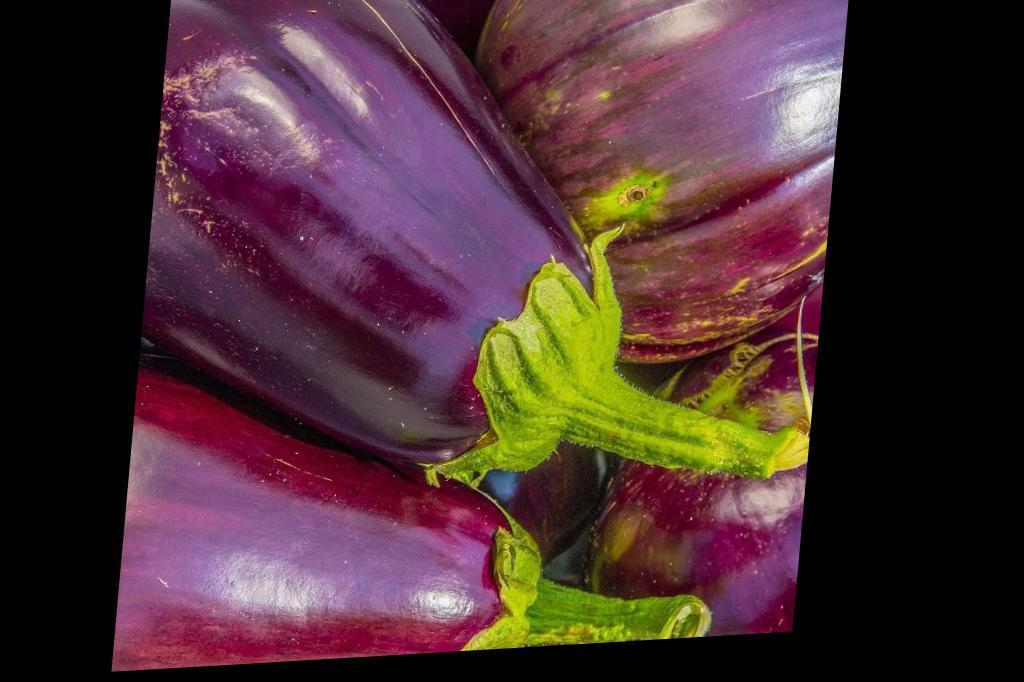eggplant: (133, 0, 812, 549), (124, 352, 738, 673)
